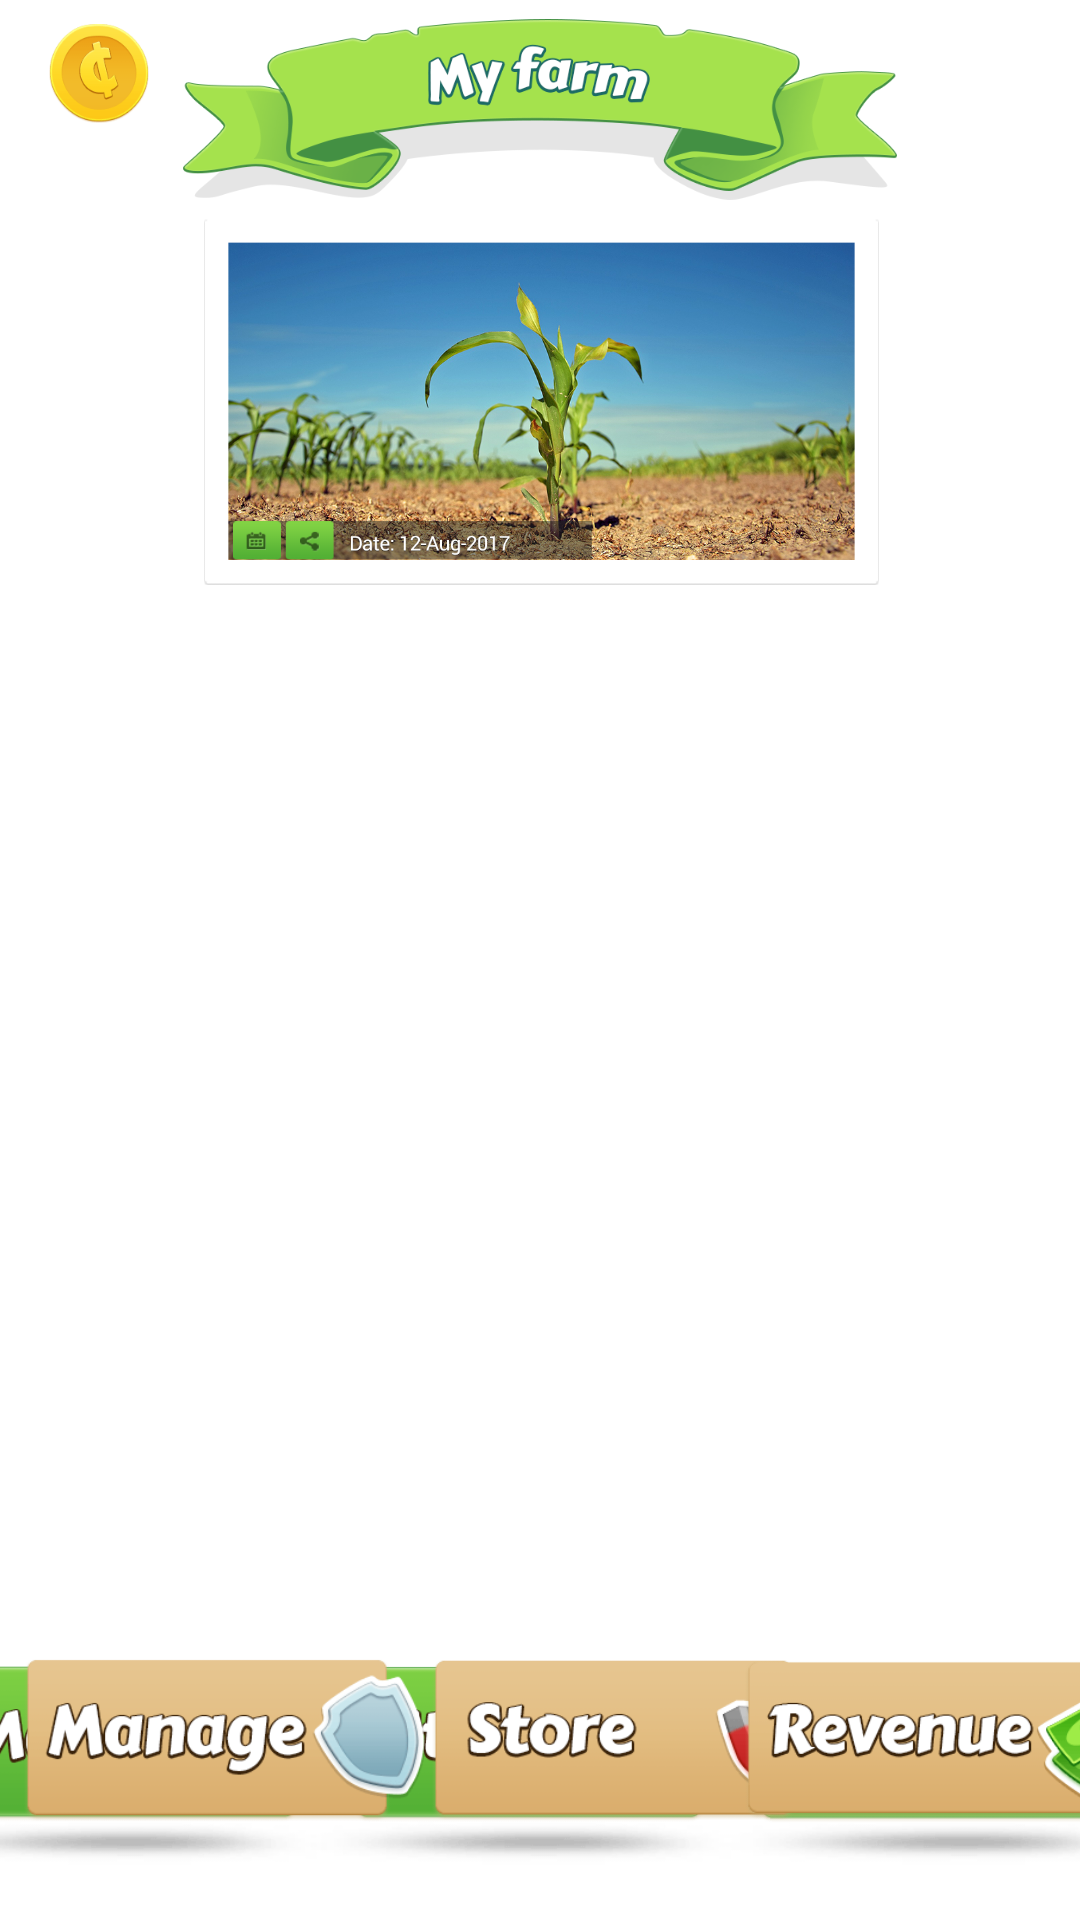

Named icons in this screenshot (1080 x 1920) and their bounding boxes, (x1, y1, x2, y2):
balance menu: (49, 24, 149, 123)
